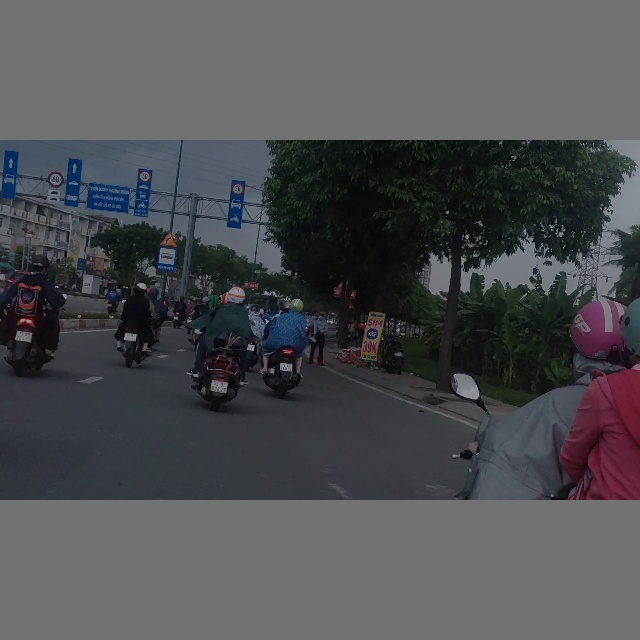I.434a: (156, 247, 177, 272)
P.127*50: (232, 182, 244, 195), (139, 170, 151, 183)
P.127*60: (48, 171, 64, 187)
S.505a*Xe tai va cong: (47, 189, 60, 203)
W.201b: (159, 232, 178, 247)
